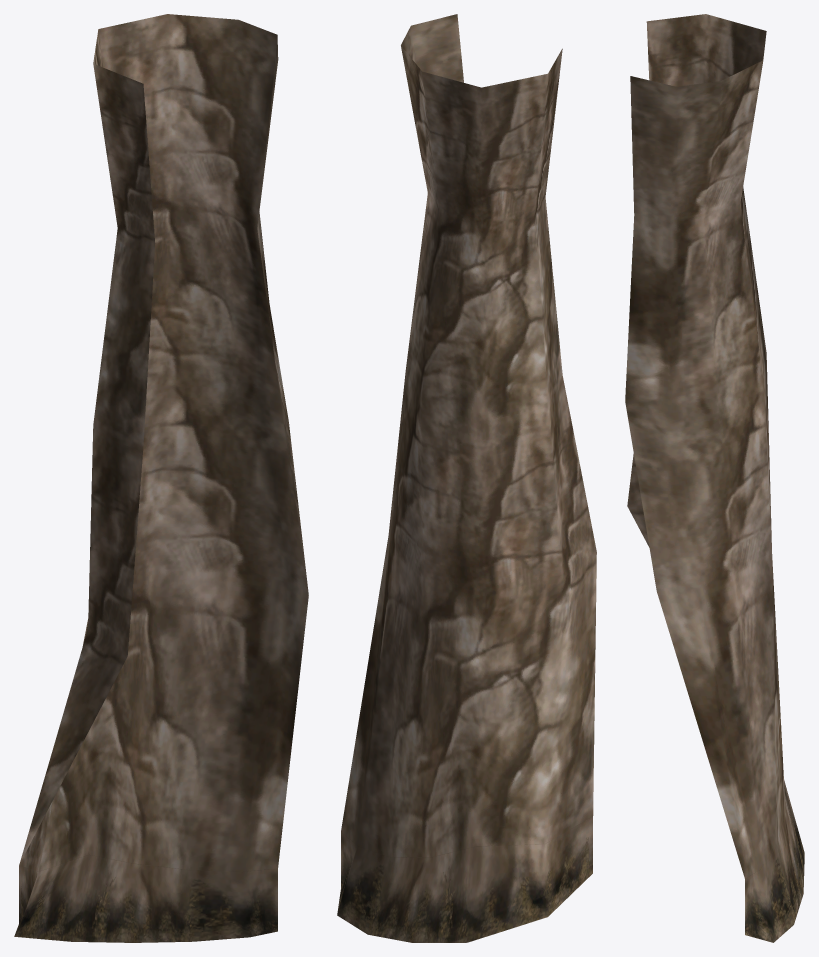
The model's file is OVERHILL_A_01_LINE309.fbx.
3 views of the same model, side by side, from view 1: azimuth 30°, elevation 25°; view 2: azimuth 150°, elevation 25°; view 3: azimuth 270°, elevation 25° (orthographic). The views are drawn at different scales.
Visible parts, largest first — view 1: OVERHILL_A_01_LINE309; view 2: OVERHILL_A_01_LINE309; view 3: OVERHILL_A_01_LINE309.
Part boxes in pixels (x1=…): OVERHILL_A_01_LINE309: x1=14, y1=14, x2=308, y2=942; OVERHILL_A_01_LINE309: x1=337, y1=14, x2=596, y2=942; OVERHILL_A_01_LINE309: x1=625, y1=14, x2=804, y2=942.
Bounding box in the file's own units: 32938 × 111376 × 21434.
Materials: 2 (2 with a texture image).
